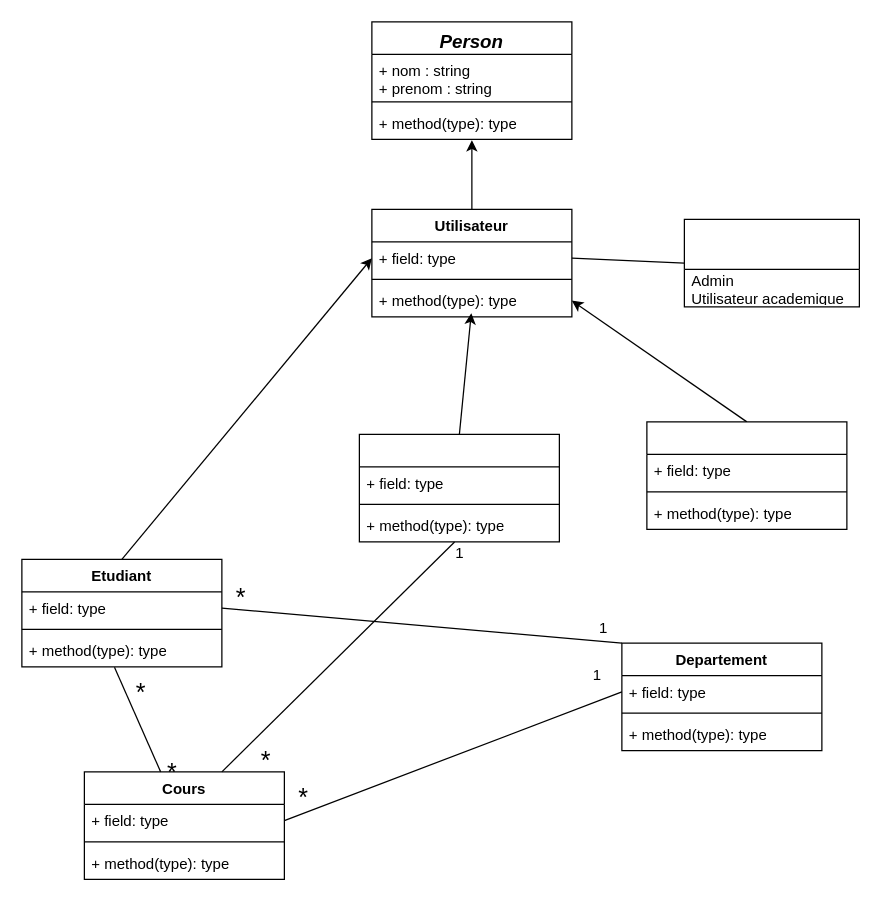
The diagram is 881 pixels wide and 905 high, and some of its shapes have lost their labels. The shapes that lost their labels are listed below. From the top down, each one's box as (x1, y1, x2, y2) in pixels, then its label:
(683, 218, 859, 307): <<enumeration>> Role
(358, 433, 559, 542): Formateur
(646, 421, 847, 529): Administrateur
